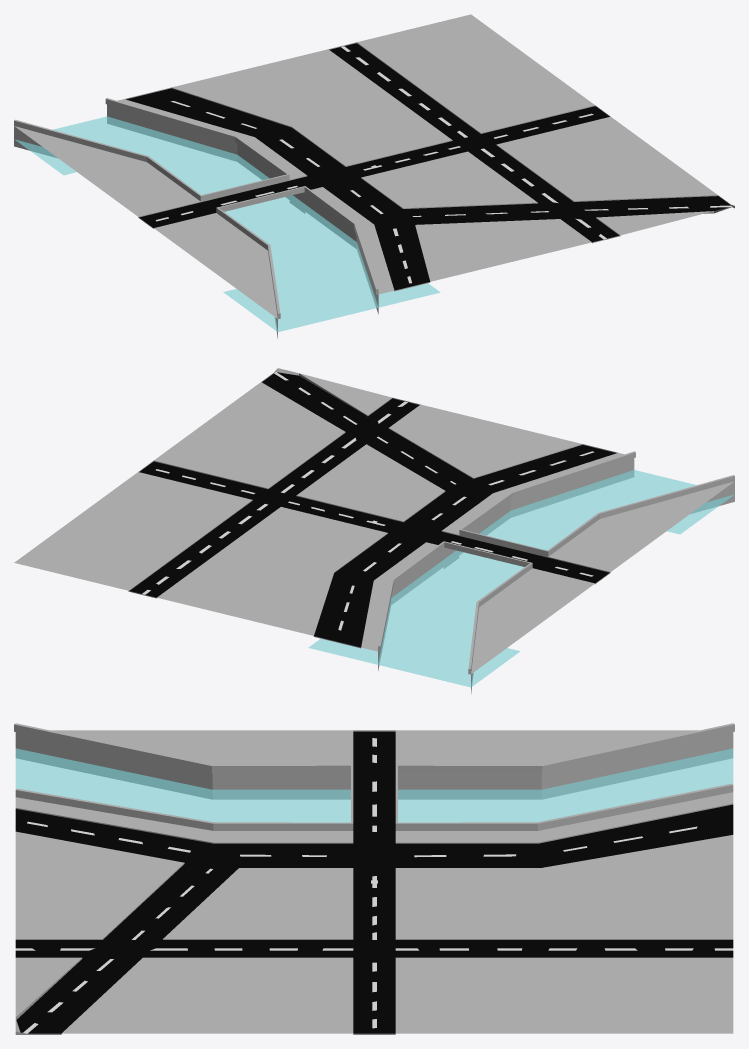
File: ground.glb
3 views of the same model, one above another, from view 1: azimuth 30°, elevation 25°; view 2: azimuth 150°, elevation 25°; view 3: azimuth 270°, elevation 25° (orthographic). The views are drawn at different scales.
Visible parts, largest first — view 1: Plane, Plane.002, Plane.001; view 2: Plane, Plane.002, Plane.001; view 3: Plane, Plane.002, Plane.001.
Boxes of the visible parts, x1,y1,x2,y2 form: Plane: (14, 14, 734, 338); Plane.002: (15, 116, 440, 331); Plane.001: (14, 98, 378, 318); Plane: (14, 368, 734, 693); Plane.002: (308, 470, 733, 687); Plane.001: (378, 451, 734, 674); Plane: (15, 730, 733, 1034); Plane.002: (15, 748, 733, 822); Plane.001: (14, 723, 734, 830).
Size of the model in its own units: 200 by 11.83 by 201.
